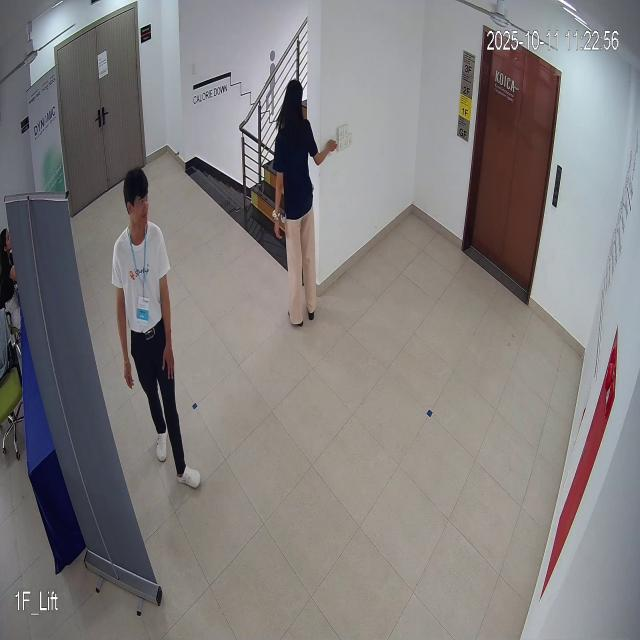face: (118, 165, 153, 234)
